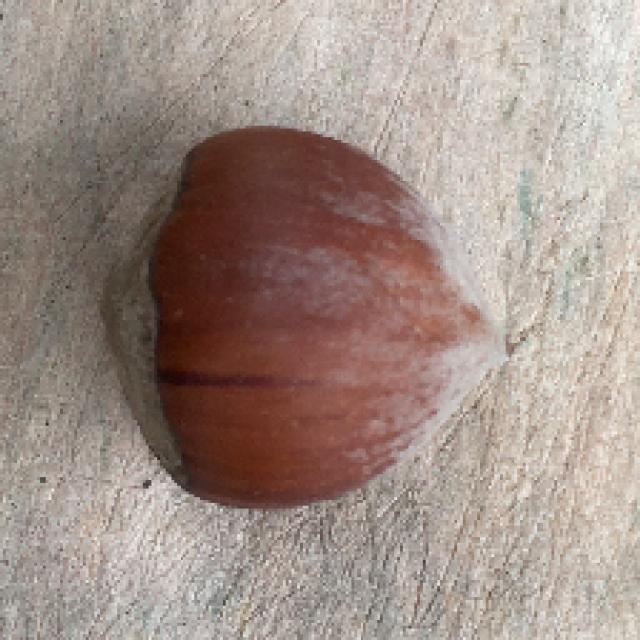qualityHazelnut: (94, 123, 499, 511)
